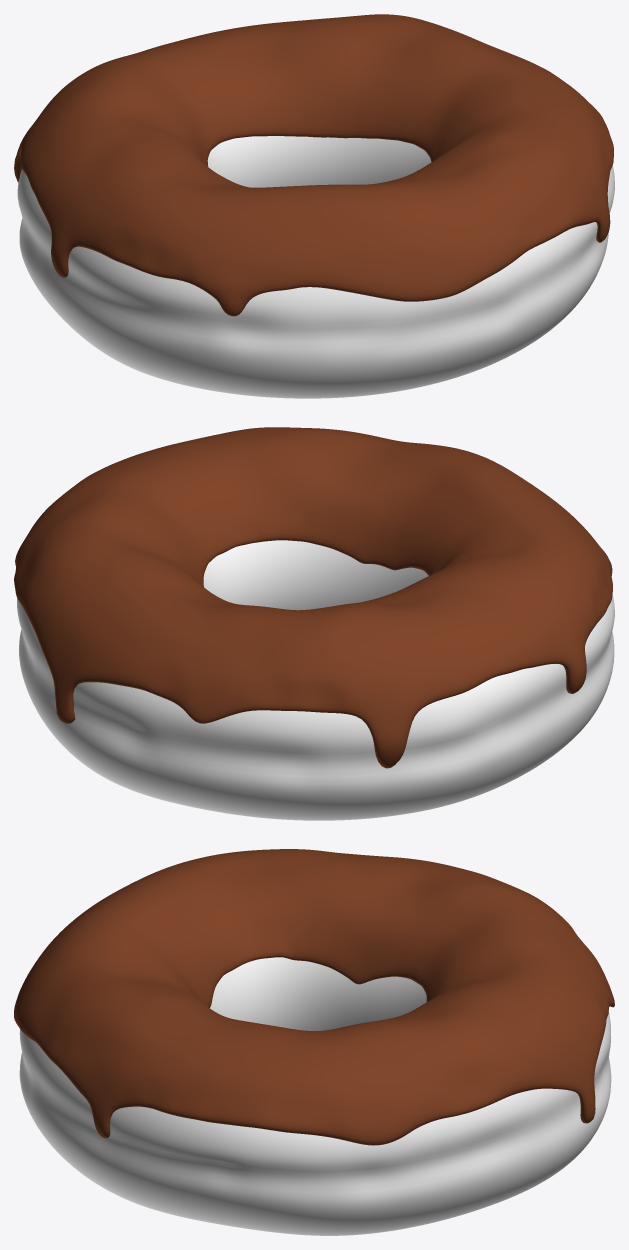
File: donut.glb
3 views of the same model, one above another, from view 1: azimuth 30°, elevation 25°; view 2: azimuth 150°, elevation 25°; view 3: azimuth 270°, elevation 25° (orthographic).
Parts seen in each view (by area): view 1: Es, Donat; view 2: Es, Donat; view 3: Es, Donat.
Part boxes in pixels (left/top/right/bottom): Es: left=14, top=14, right=613, bottom=316; Donat: left=17, top=136, right=614, bottom=398; Es: left=14, top=427, right=612, bottom=768; Donat: left=17, top=540, right=614, bottom=820; Es: left=14, top=849, right=614, bottom=1145; Donat: left=19, top=957, right=611, bottom=1235.
Bounding box in the file's own units: 0.1496 × 0.0549 × 0.1458.
